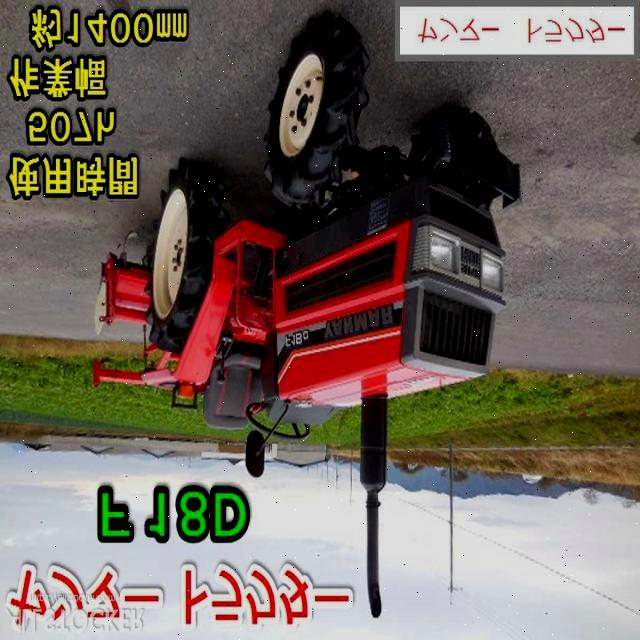Tratores - v5 YOLO V8L 2024-11-13: (88, 13, 525, 626)
